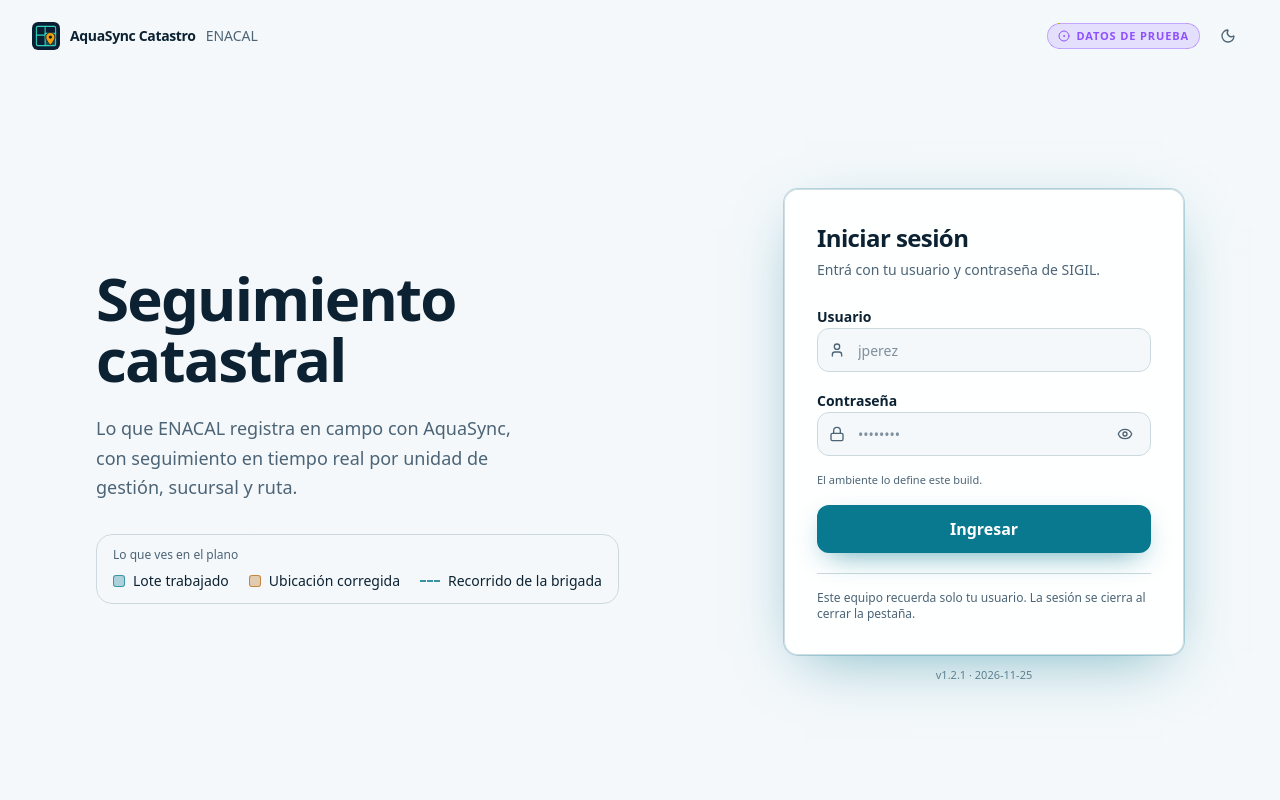
Scenario: login › shows validation when the fields are empty
What coordinates should you click on to do the following:
click the button "Ingresar"
I would click on:
 (984, 528)
Its box is [817,504,1151,552].
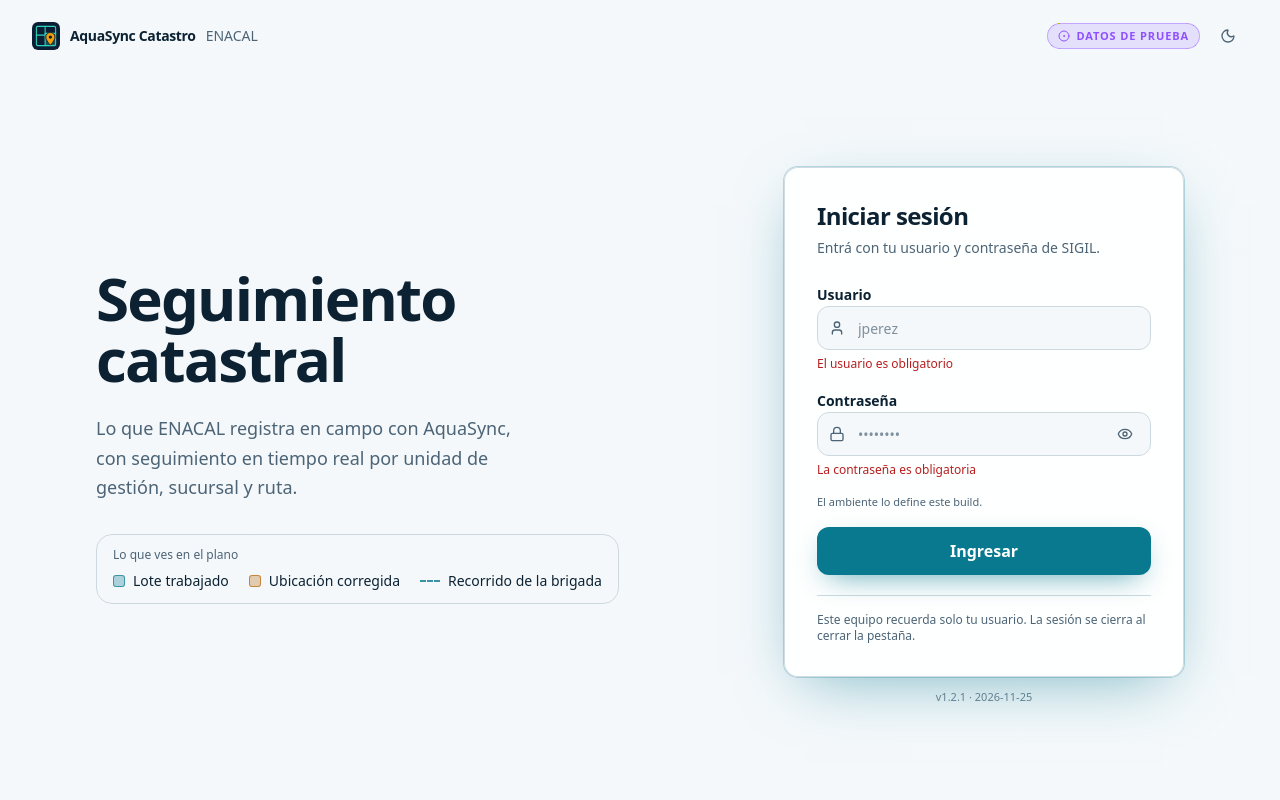
Expected: the text "El usuario es obligatorio" is shown, [817,355,953,372]
Expected: the text "La contraseña es obligatoria" is shown, [817,461,976,478]
